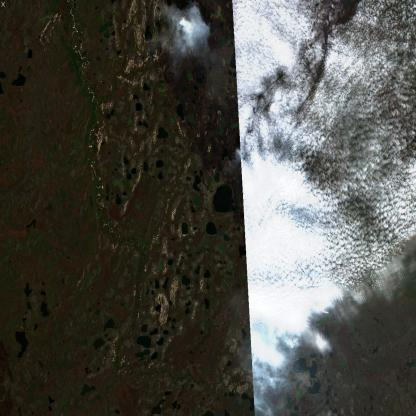fire: (166, 0, 352, 368)
